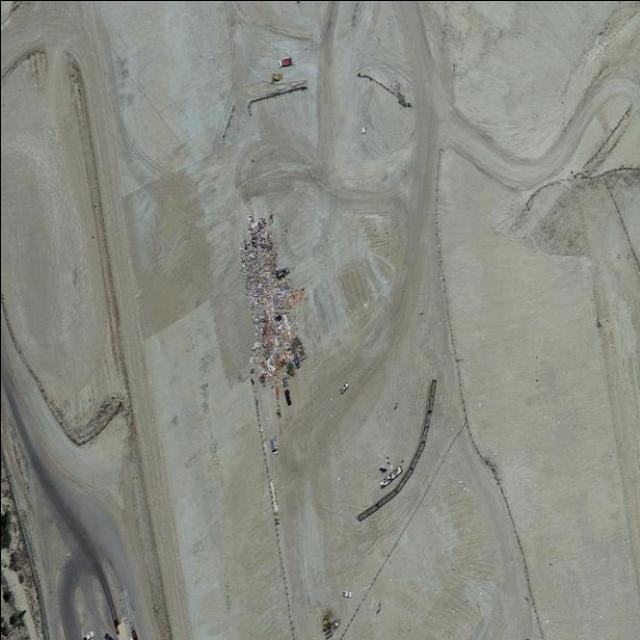dump_site: (235, 201, 312, 412)
